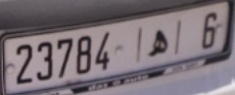2: (13, 44, 33, 86)
3: (36, 42, 52, 81)
4: (94, 30, 112, 70)
6: (202, 12, 218, 51)
7: (56, 36, 73, 78)
8: (76, 34, 92, 75)
h: (146, 27, 170, 57)
